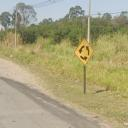Rotatoria: (72, 37, 96, 67)
